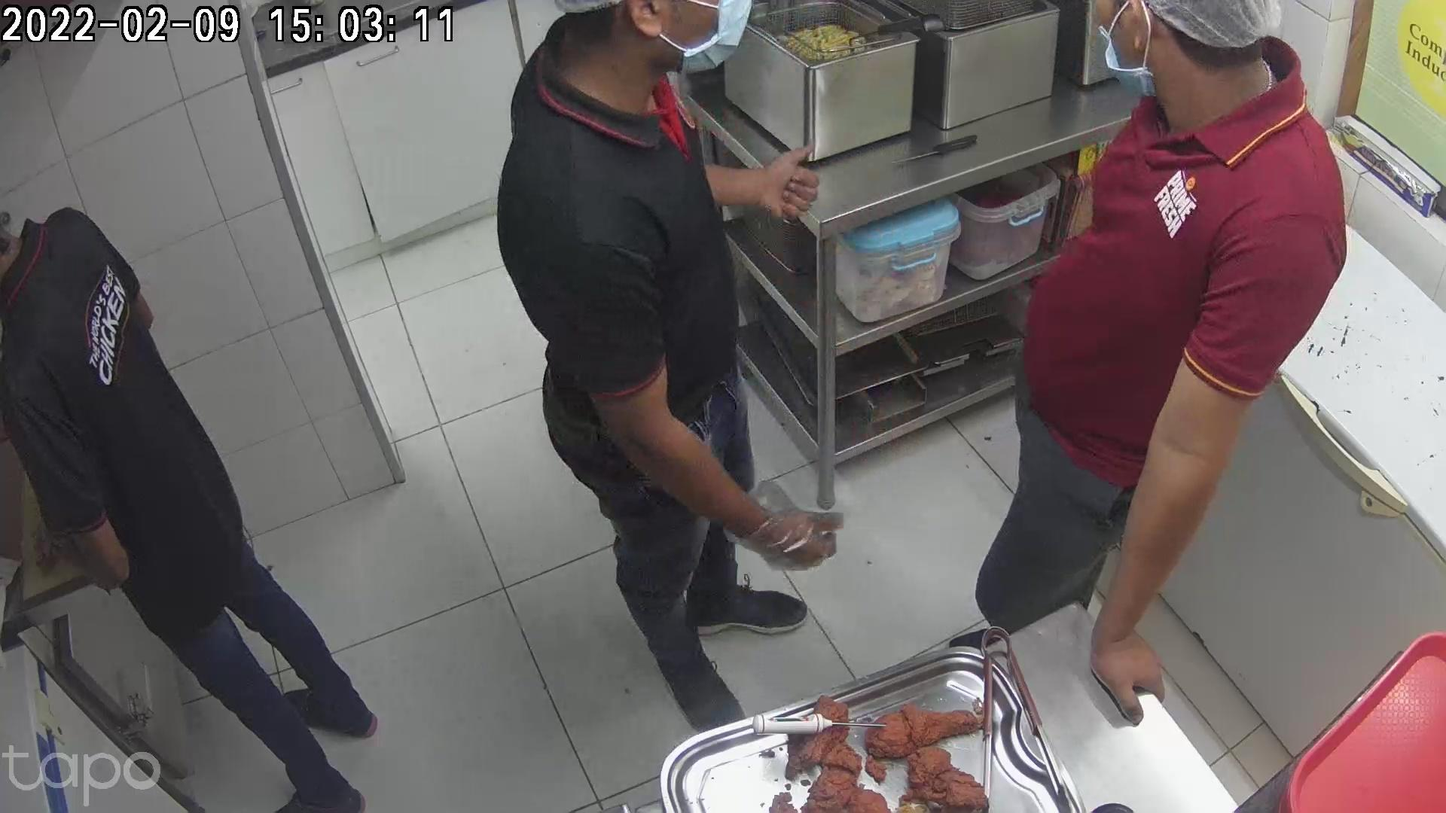gloves: (712, 511, 836, 565)
